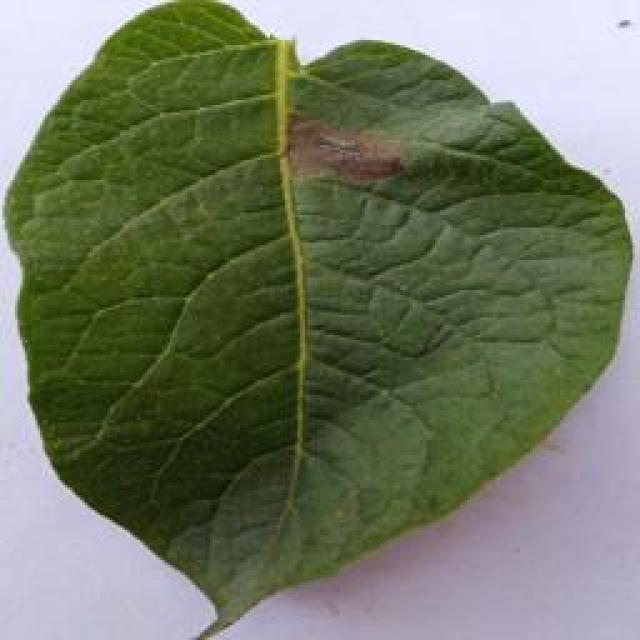Potato_Late_Blight: (5, 19, 632, 639)
